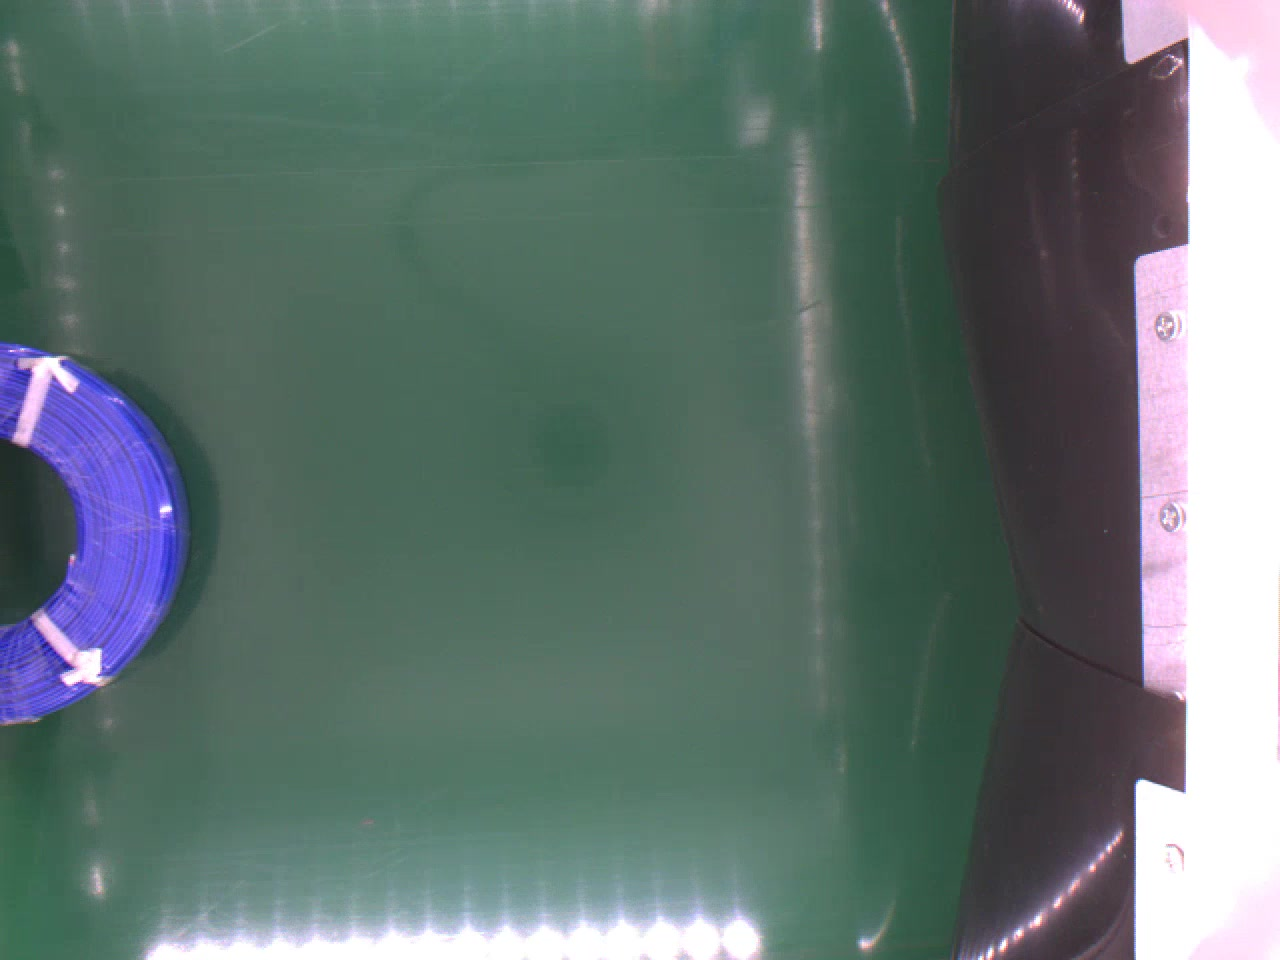blue: (0, 342, 193, 730)
